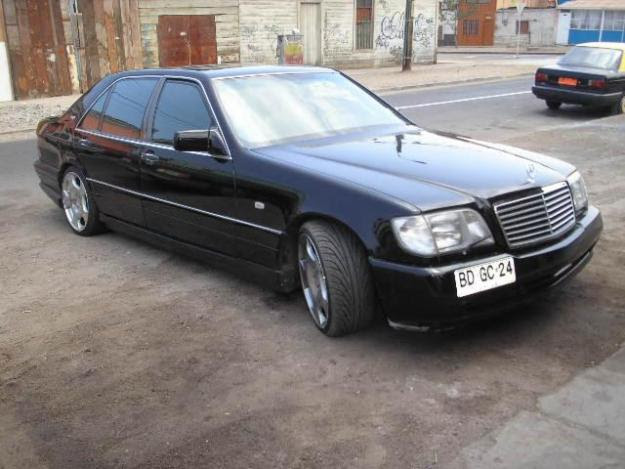car: (19, 44, 612, 351), (516, 24, 625, 121)
